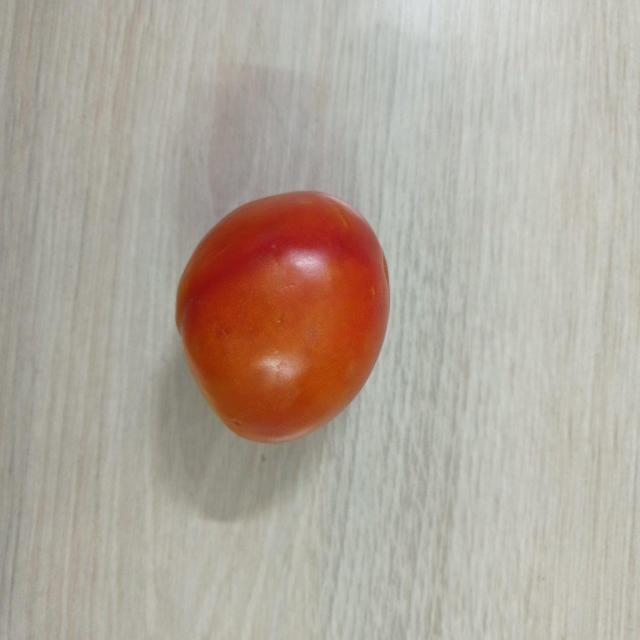Tomato: (174, 186, 392, 447)
